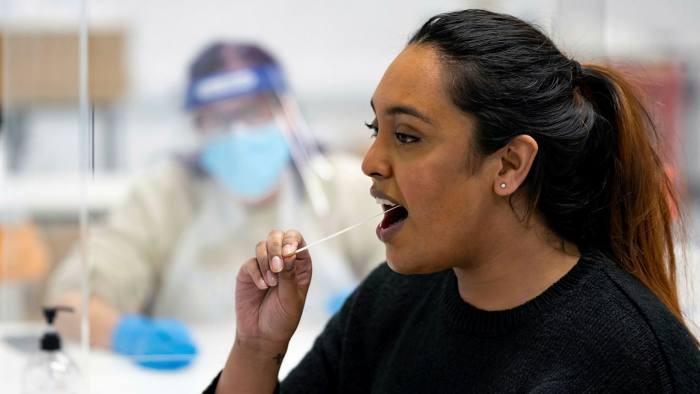Face_Shield: (183, 64, 291, 186)
without_mask: (356, 99, 438, 278)
